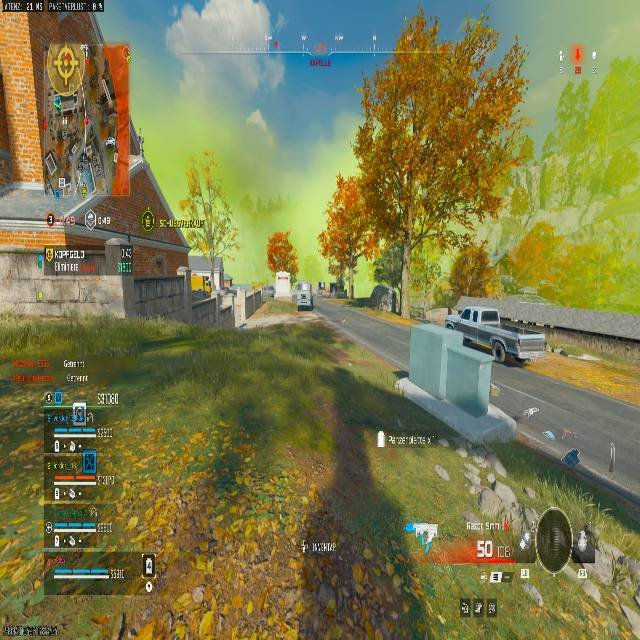player: (559, 447, 580, 471)
